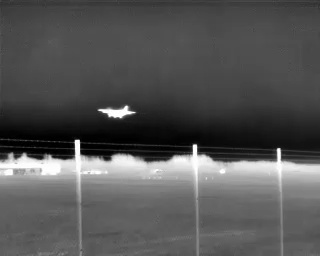AIRPLANE: (94, 102, 139, 122)
